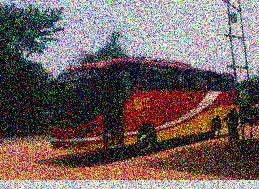bus: (48, 57, 237, 155)
